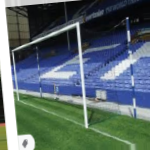goals: (11, 20, 121, 128)
